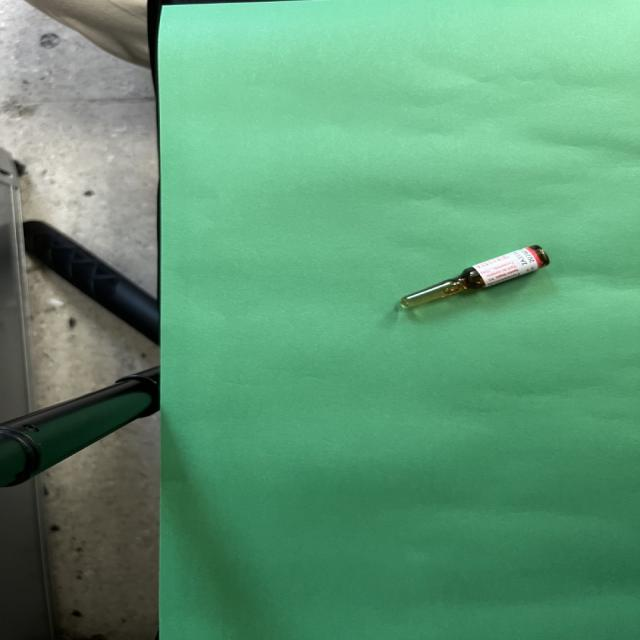Ampoules: (401, 245, 549, 307)
